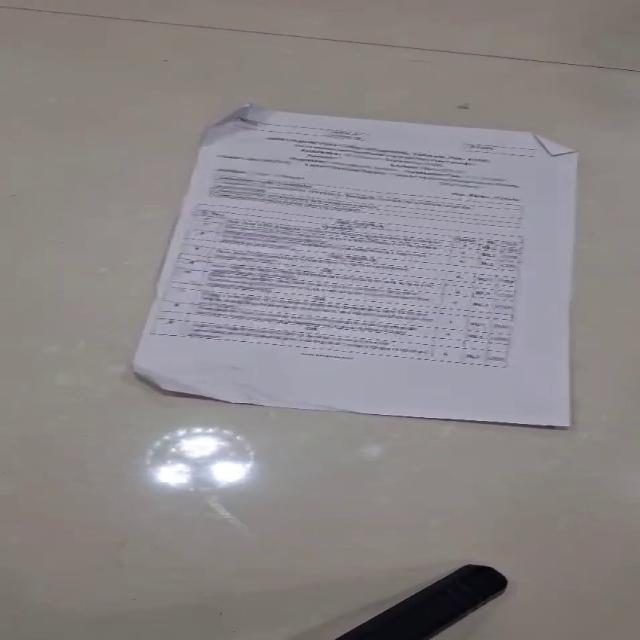paper: (130, 102, 578, 428)
